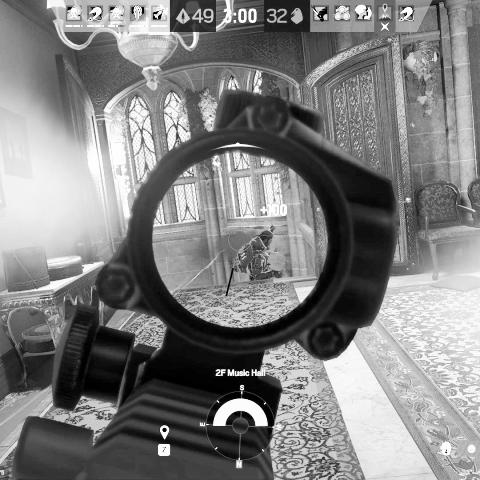Character: (232, 225, 286, 283)
Head: (259, 228, 276, 249)
